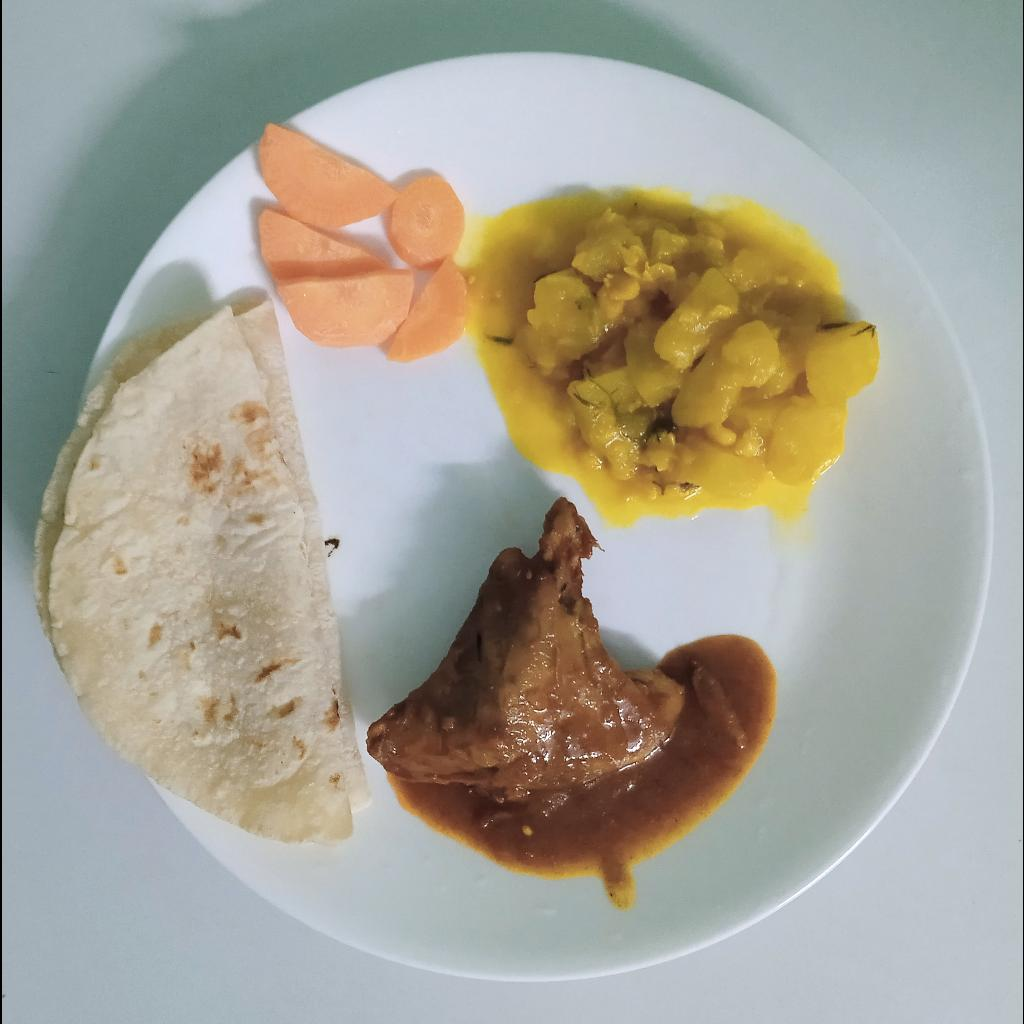carrot: (256, 123, 467, 362)
chicken: (365, 496, 685, 799)
lau: (519, 207, 874, 490)
ruti: (37, 297, 375, 843)
